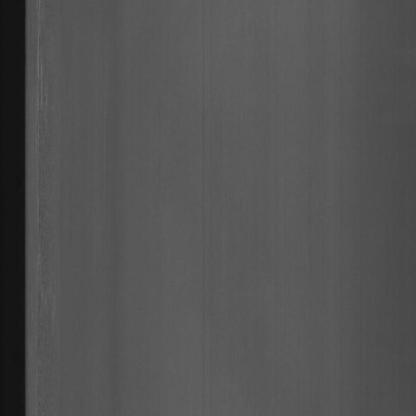silk_spot: (30, 35, 66, 151)
